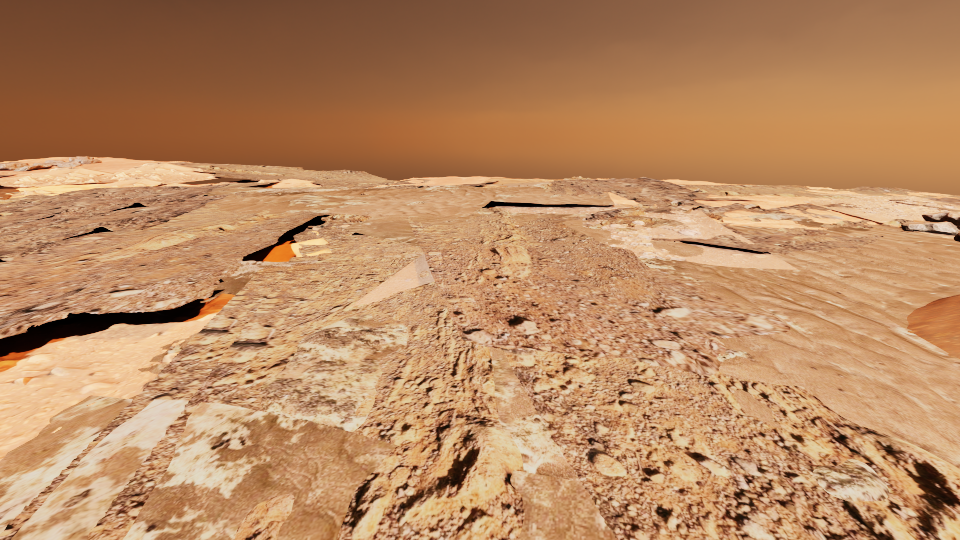bedrock: (318, 258, 524, 539), (719, 371, 959, 539), (489, 177, 959, 260), (0, 183, 254, 262), (41, 211, 304, 266), (453, 207, 539, 285), (0, 273, 105, 330), (235, 494, 294, 539), (193, 164, 294, 175), (338, 180, 428, 188), (307, 214, 372, 224), (911, 195, 959, 205), (820, 220, 872, 228), (355, 395, 374, 415), (313, 173, 355, 179), (207, 207, 237, 214), (887, 219, 913, 225), (461, 182, 490, 186), (518, 208, 541, 212), (419, 271, 428, 277), (750, 218, 760, 221)
rocks: (901, 212, 959, 241), (0, 156, 101, 171)
sand: (638, 209, 959, 468), (122, 314, 406, 539), (199, 176, 639, 247), (11, 399, 187, 539), (489, 347, 617, 539), (0, 395, 136, 532), (200, 238, 329, 302), (509, 213, 624, 245), (813, 459, 888, 501), (734, 390, 780, 427), (692, 195, 819, 208), (73, 157, 182, 172), (149, 333, 195, 361), (17, 183, 109, 193), (648, 240, 703, 256), (0, 166, 58, 180), (1, 157, 68, 165), (138, 363, 168, 373), (662, 180, 735, 184), (360, 253, 422, 257), (908, 192, 953, 197), (296, 220, 325, 227), (213, 180, 258, 184), (306, 248, 331, 255), (805, 190, 856, 193)
soil: (0, 202, 859, 539), (353, 338, 435, 436), (677, 184, 959, 209), (169, 163, 398, 191), (804, 198, 923, 227), (679, 241, 797, 269), (665, 207, 754, 244), (907, 295, 959, 358), (0, 175, 121, 199), (486, 203, 598, 213), (156, 170, 191, 183), (0, 215, 41, 222), (692, 194, 744, 199), (920, 232, 954, 238), (171, 340, 184, 346), (235, 192, 249, 197), (681, 205, 693, 209)
